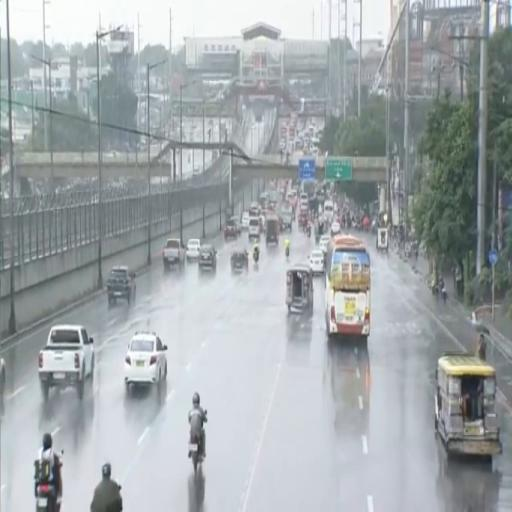bus: (325, 235, 371, 340)
car: (125, 331, 167, 390), (107, 266, 136, 305), (198, 245, 216, 270), (231, 249, 248, 271), (309, 249, 323, 274), (186, 239, 201, 260), (224, 218, 238, 239), (249, 217, 260, 239), (0, 358, 5, 403), (319, 235, 330, 253), (231, 216, 241, 234), (331, 221, 340, 235), (242, 212, 249, 230), (193, 166, 200, 175)
motorcycle: (36, 483, 58, 511), (189, 435, 203, 472), (441, 285, 446, 303), (306, 225, 312, 238), (253, 251, 259, 263), (285, 247, 289, 258)
truck: (39, 325, 94, 401), (163, 239, 185, 270), (266, 214, 280, 246), (281, 204, 294, 231)
